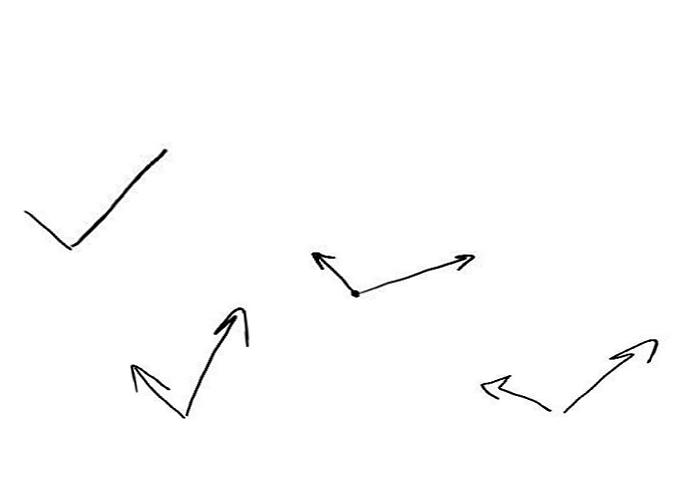arrow: (565, 336, 660, 411), (184, 304, 250, 410), (360, 254, 475, 292), (131, 364, 187, 417), (481, 371, 550, 410), (312, 252, 352, 288)
arrownohead: (72, 146, 169, 245), (24, 207, 74, 248)
